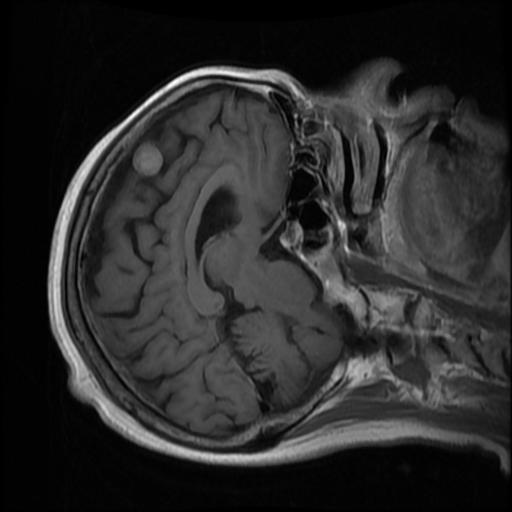meningioma: (131, 143, 163, 179)
